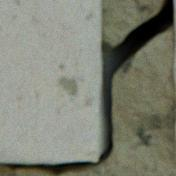brick: (0, 0, 102, 161), (174, 49, 175, 78), (174, 0, 175, 28)
crack: (0, 0, 174, 175)
